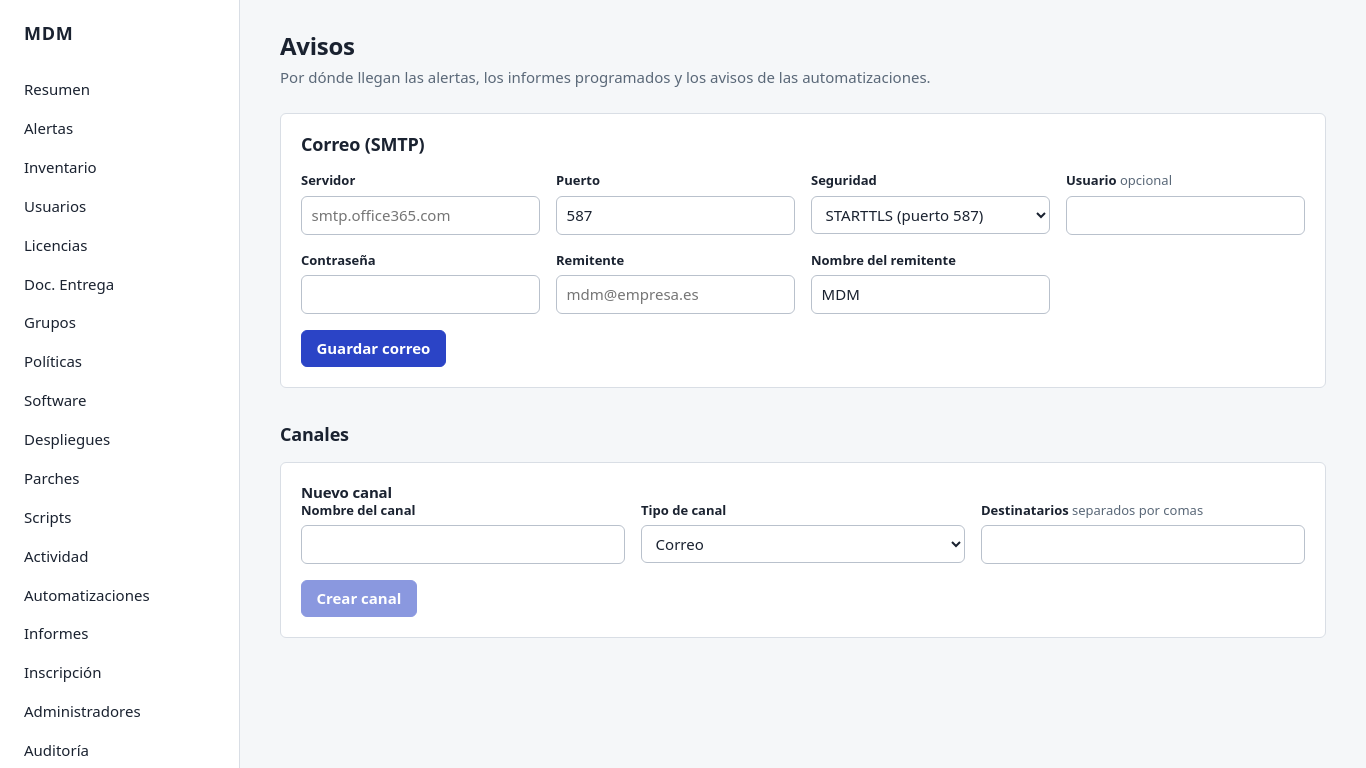
Scenario: Avisos › crear un webhook muestra su secreto una sola vez
Type "Teams" into the field labelled "Nombre del canal" at (463, 544), box [301,525,625,564]
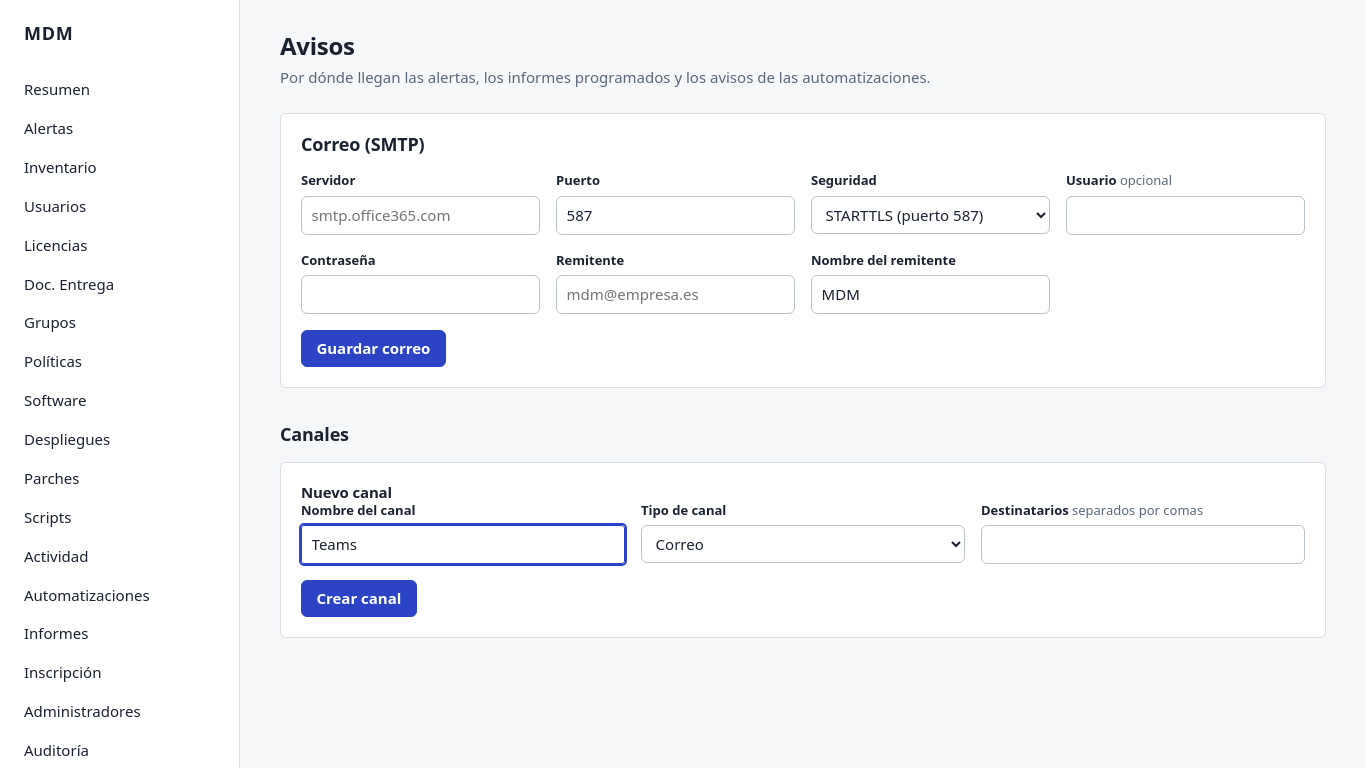
Select "Webhook (Teams, Slack u otro sistema)" in the dropdown labelled "Tipo de canal" at (803, 544), box [641,525,965,563]
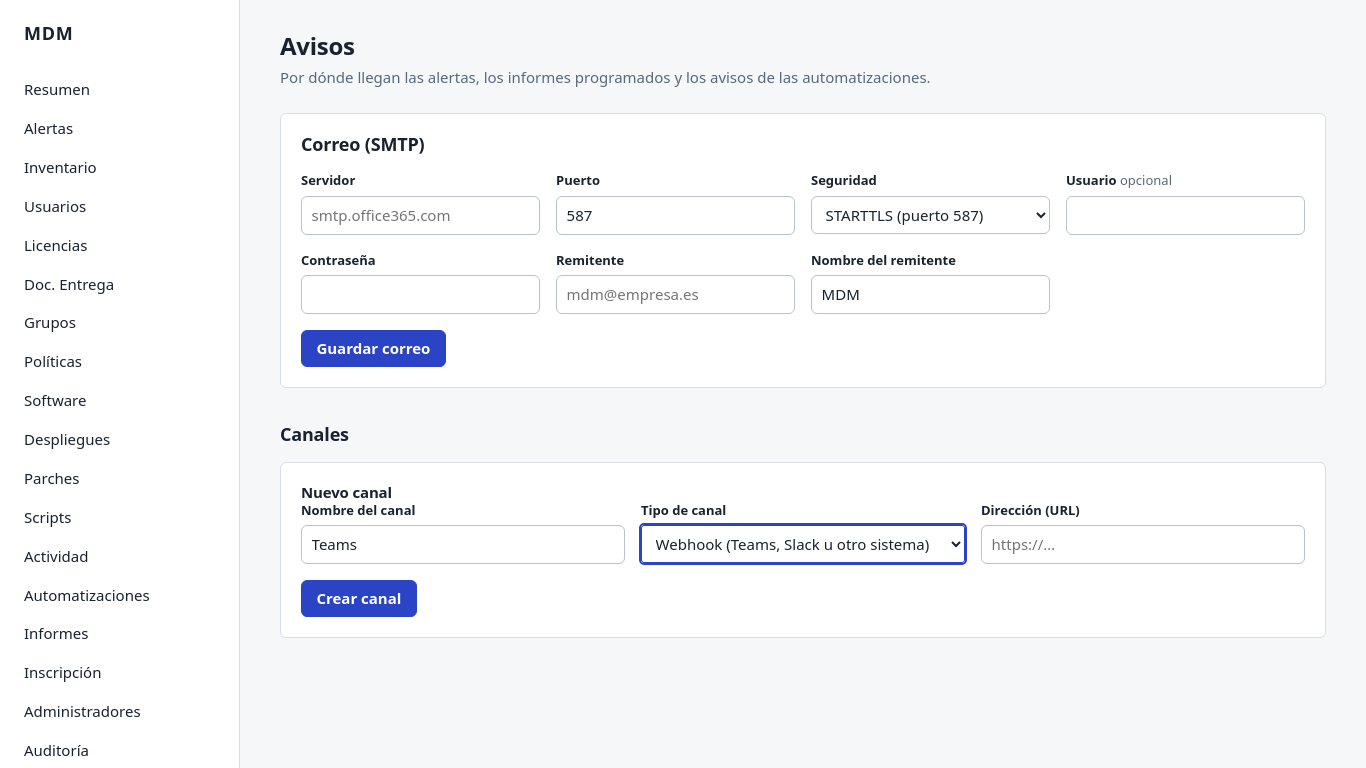
Type "https://x.es/h" into the field labelled "Dirección (URL)" at (1143, 544), box [981,525,1305,564]
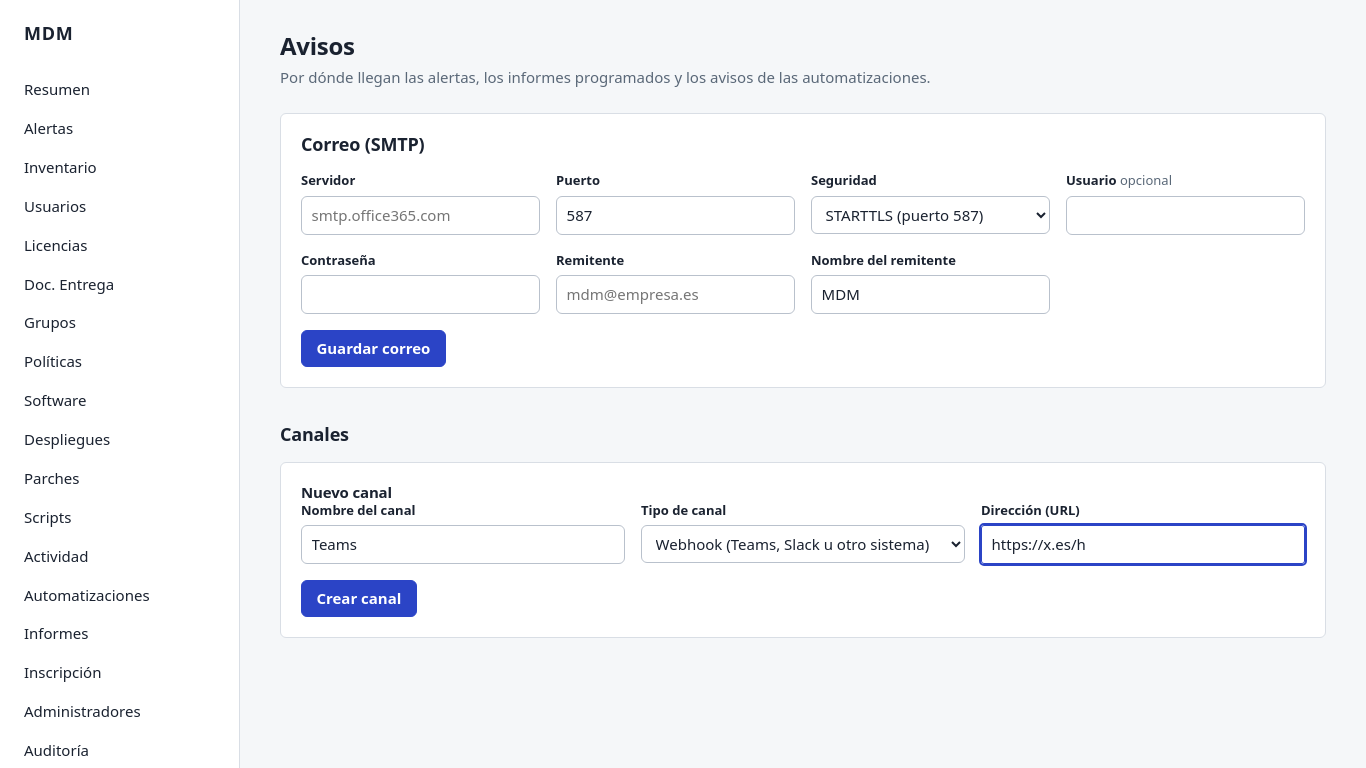
Click the button "Crear canal" at (359, 599), box [301,580,417,617]
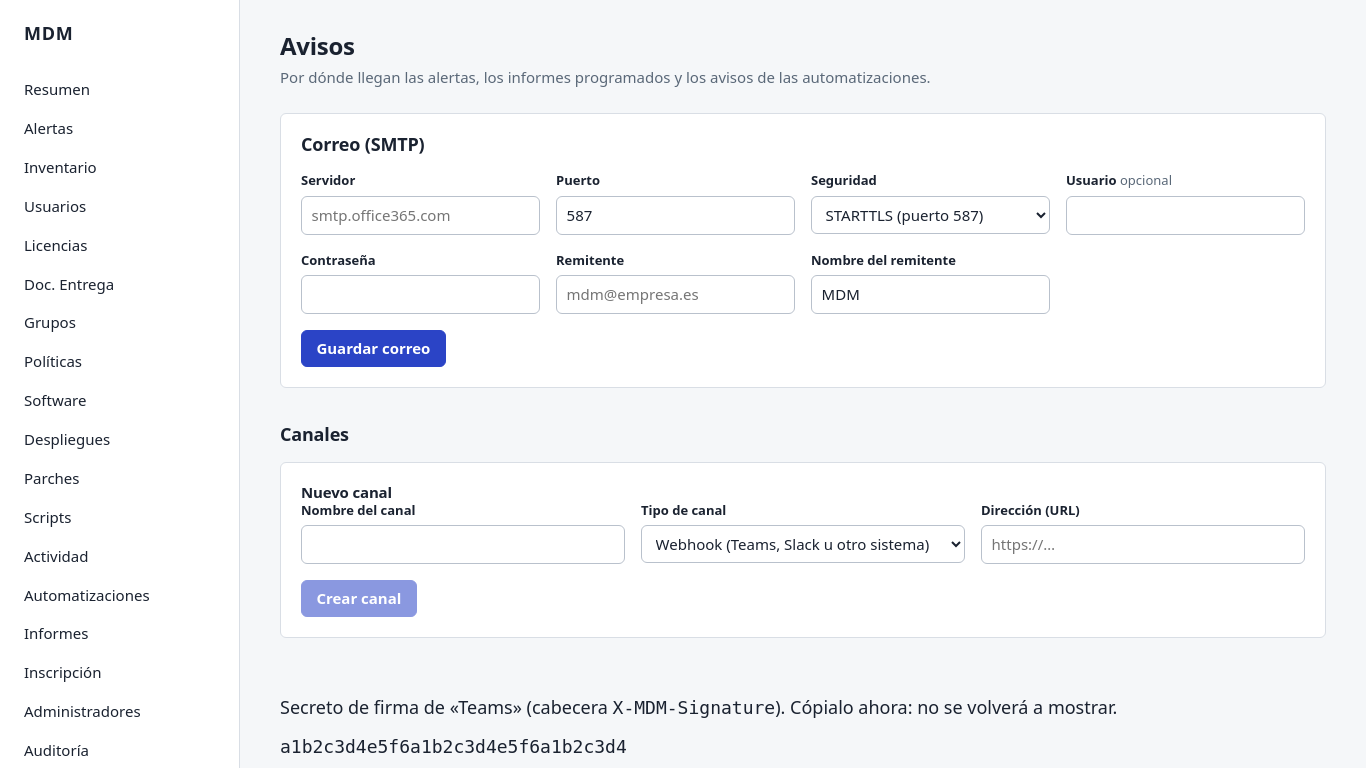
Result: the text "a1b2c3d4e5f6a1b2c3d4e5f6a1b2c3d4" is shown at [280,733,627,760]
Result: the text "no se volverá a mostrar" is shown at [775,695,1117,719]
